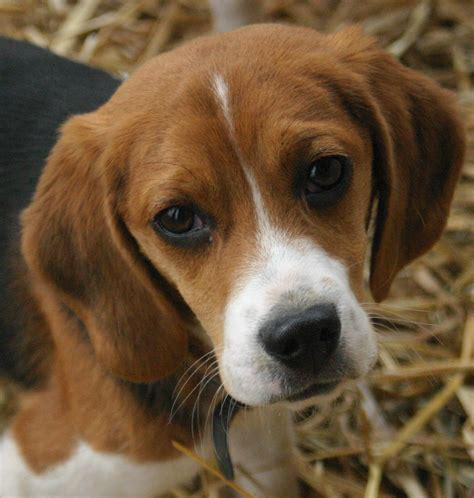dog: (1, 25, 459, 498)
